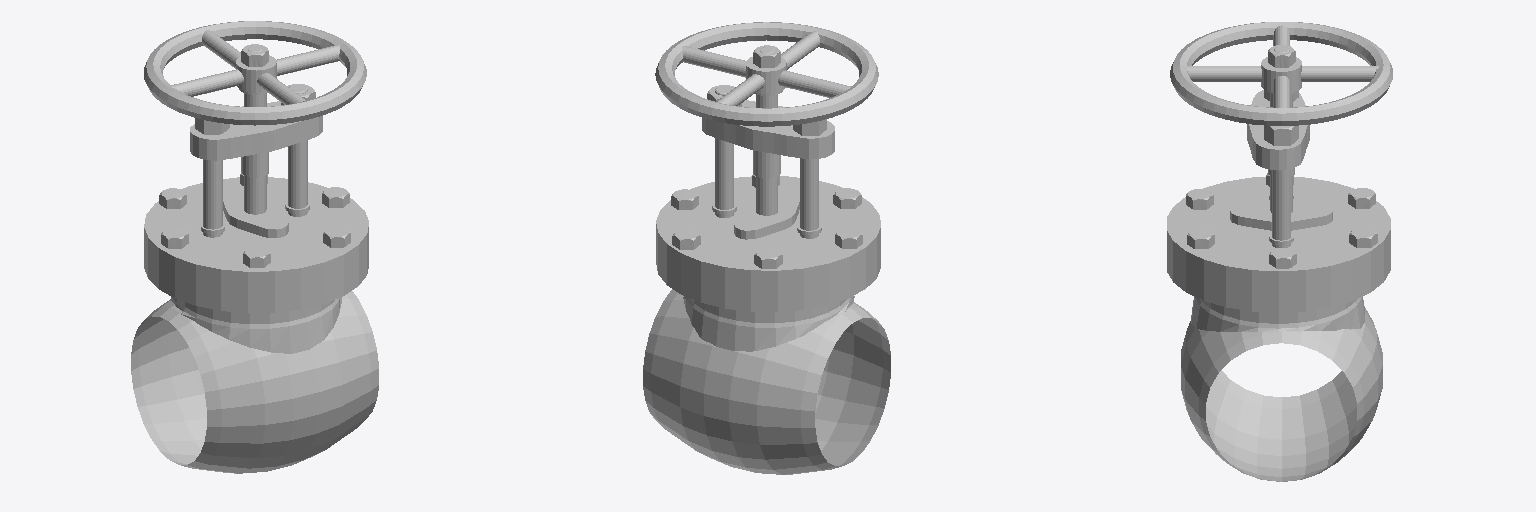
The model's file is valve4.obj.
The picture shows the model from 3 angles: view 1: azimuth 30°, elevation 25°; view 2: azimuth 150°, elevation 25°; view 3: azimuth 270°, elevation 25°; orthographic projection.
Parts seen in each view (by area): view 1: Cylinder.002, Cylinder.006, BezierCircle, Cylinder.005, Cube.001, Bolt.008, Cylinder.011, Bolt.006, Cube, Bolt.007, Cylinder.001; view 2: Cylinder.002, Cylinder.006, BezierCircle, Cylinder.005, Cube.001, Bolt.008, Cylinder.007, Cylinder.011, Bolt.006, Cube, Bolt.007, Cylinder.001; view 3: Cylinder.002, Cylinder.006, BezierCircle, Cylinder.005, Cylinder.001, Bolt.007, Cube.001, Cube, Cylinder.007, Bolt.008, Cylinder.011.
Boxes of the visible parts, x1,y1,x2,y2 form: Cylinder.002: [131, 291, 378, 473]; Cylinder.006: [144, 177, 368, 312]; BezierCircle: [144, 21, 366, 125]; Cylinder.005: [171, 297, 341, 353]; Cube.001: [190, 101, 322, 160]; Bolt.008: [236, 44, 276, 214]; Cylinder.011: [171, 45, 339, 96]; Bolt.006: [195, 118, 229, 237]; Cube: [223, 190, 288, 237]; Bolt.007: [281, 84, 315, 216]; Cylinder.001: [202, 30, 305, 104]; Cylinder.002: [643, 289, 890, 474]; Cylinder.006: [656, 176, 880, 311]; BezierCircle: [655, 22, 878, 126]; Cylinder.005: [683, 296, 854, 351]; Cube.001: [702, 100, 834, 158]; Bolt.008: [746, 45, 786, 215]; Cylinder.007: [693, 194, 841, 254]; Cylinder.011: [682, 46, 850, 97]; Bolt.006: [793, 119, 826, 238]; Cube: [734, 191, 799, 239]; Bolt.007: [707, 85, 741, 217]; Cylinder.001: [716, 31, 819, 105]; Cylinder.002: [1181, 306, 1382, 481]; Cylinder.006: [1167, 177, 1390, 312]; BezierCircle: [1170, 22, 1392, 125]; Cylinder.005: [1191, 297, 1364, 331]; Cylinder.001: [1185, 66, 1378, 81]; Bolt.007: [1264, 126, 1298, 247]; Cube.001: [1247, 90, 1309, 170]; Cube: [1230, 199, 1332, 230]; Cylinder.007: [1208, 193, 1352, 254]; Bolt.008: [1261, 45, 1301, 212]; Cylinder.011: [1273, 25, 1289, 107].
Size of the model in its own units: 0.079 by 0.1596 by 0.0794.